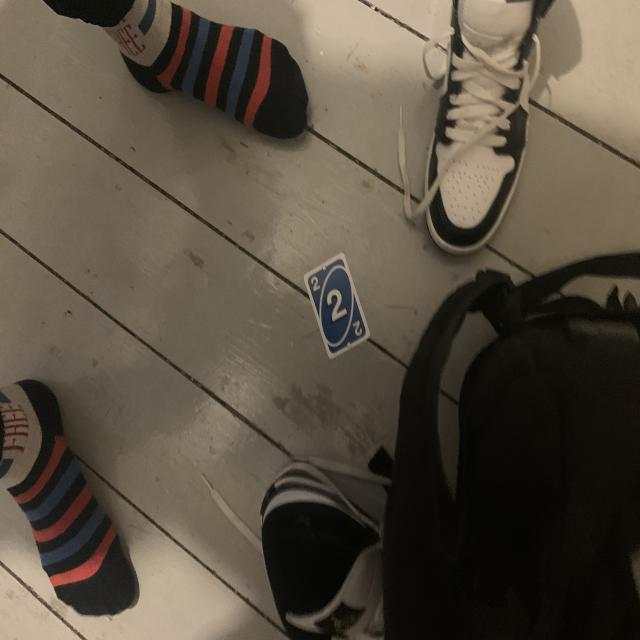lblue-2: (310, 275, 322, 293)
